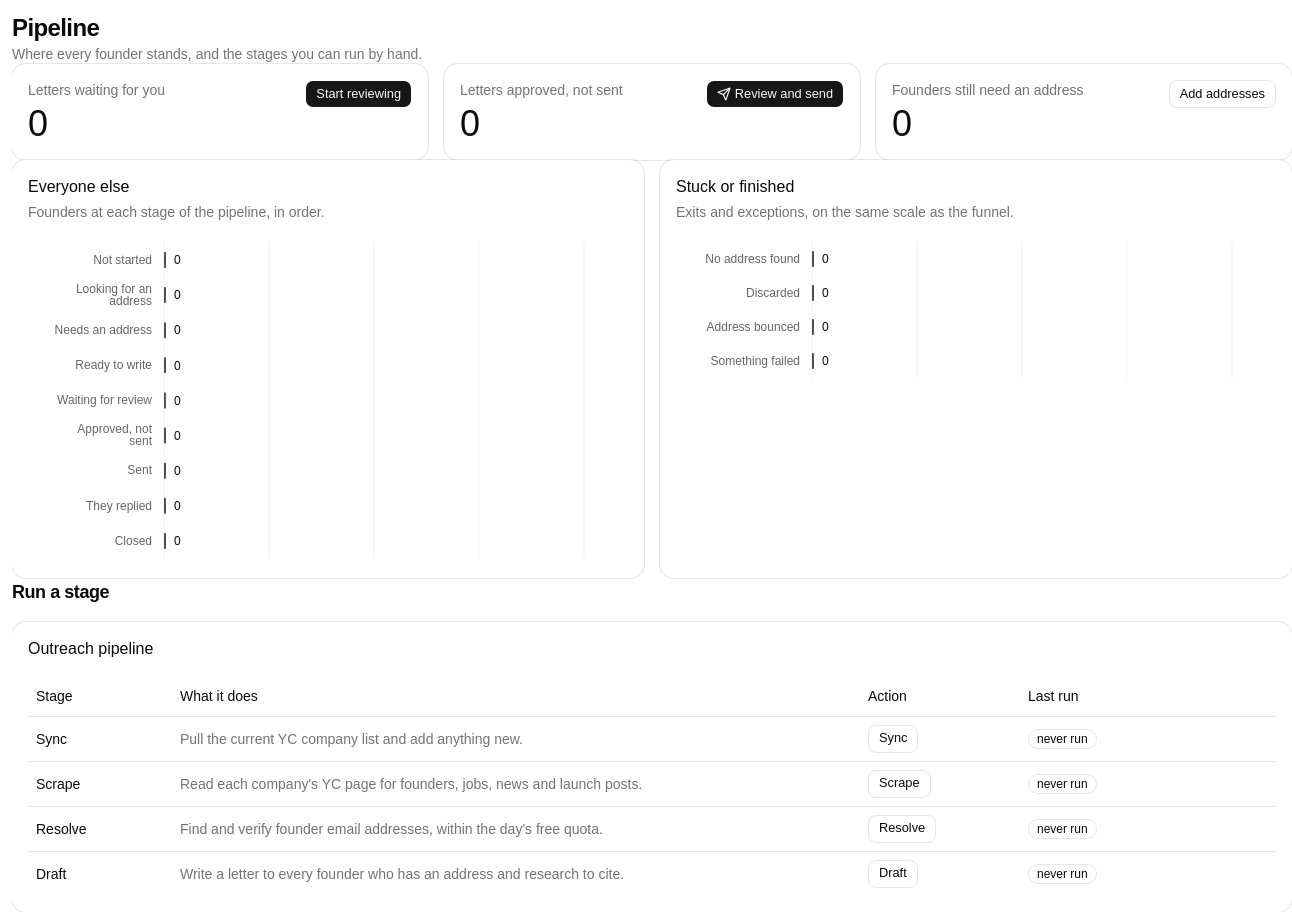
Test: a 409 from start disables the button and shows the in-flight job, not an error
This screenshot has width=1292, height=912.
Click the button "Scrape". click: (899, 784)
box: [868,770,930,798]
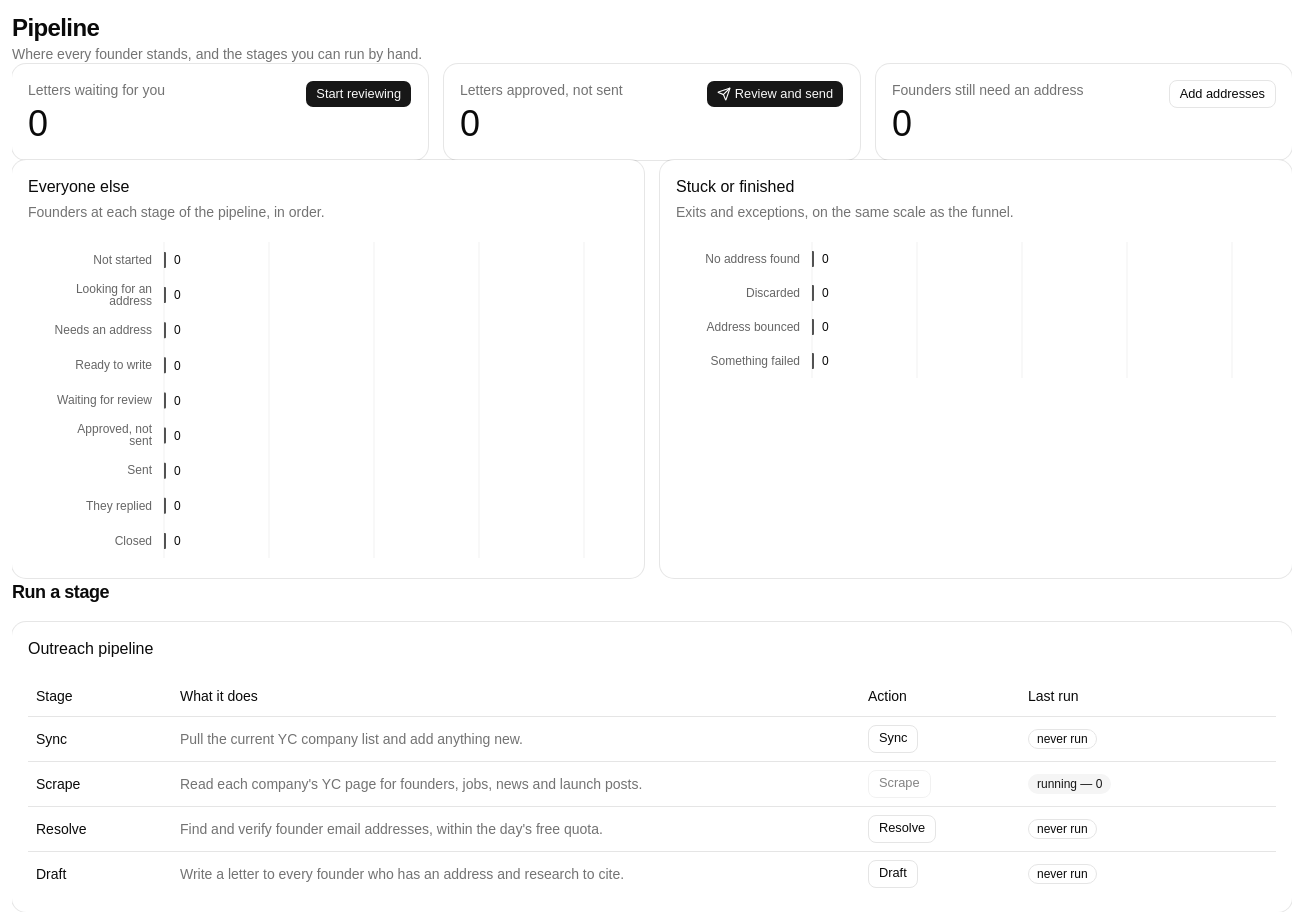
Expected: the button "Scrape" is disabled, [868,770,930,798]
